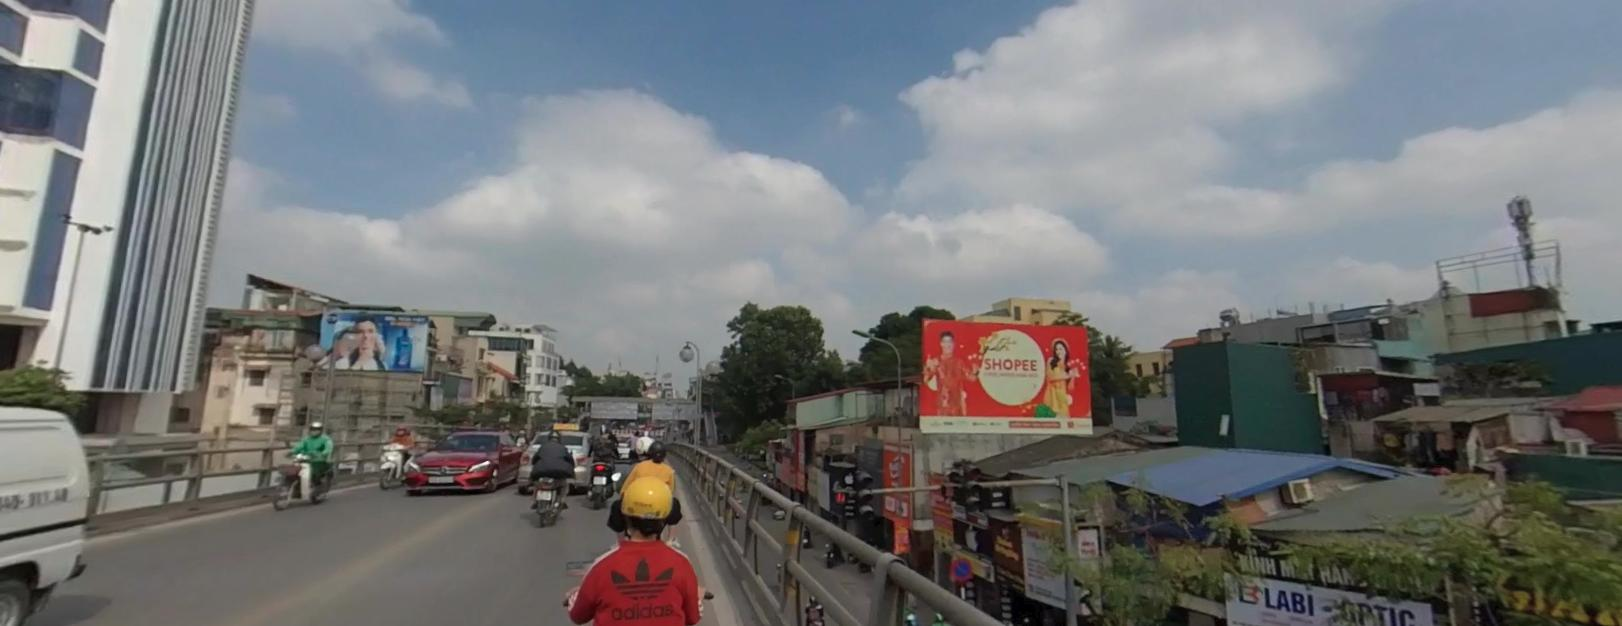Cam dung va do: (950, 556, 973, 582)
